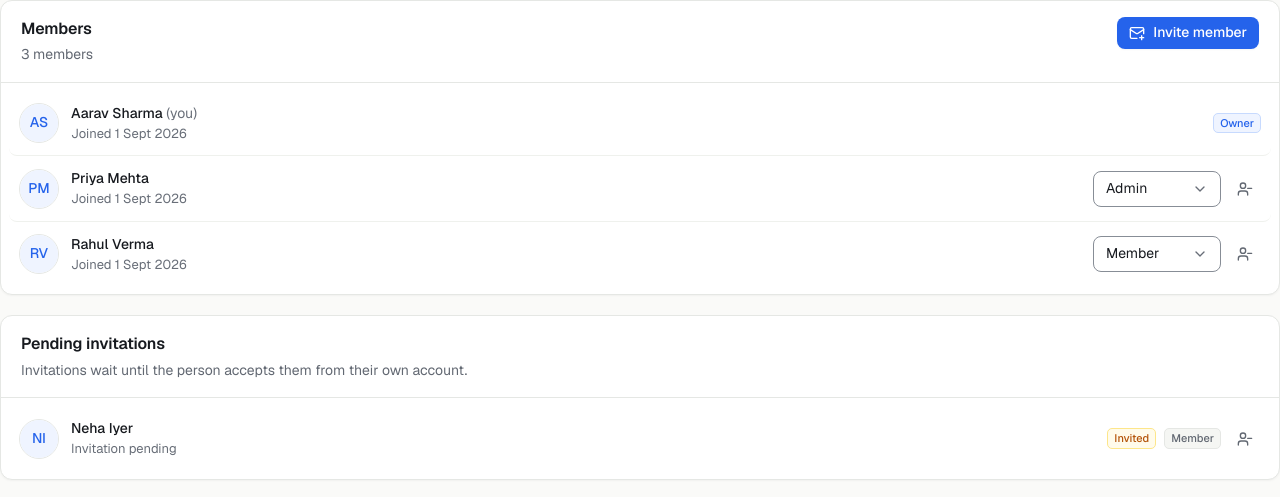
TeamManager › changes a role and refreshes from the server
The width and height of the screenshot is (1280, 497).
Click the dropdown named "Role for Rahul Verma" at (1157, 254), box x1=1093 y1=236 x2=1221 y2=272
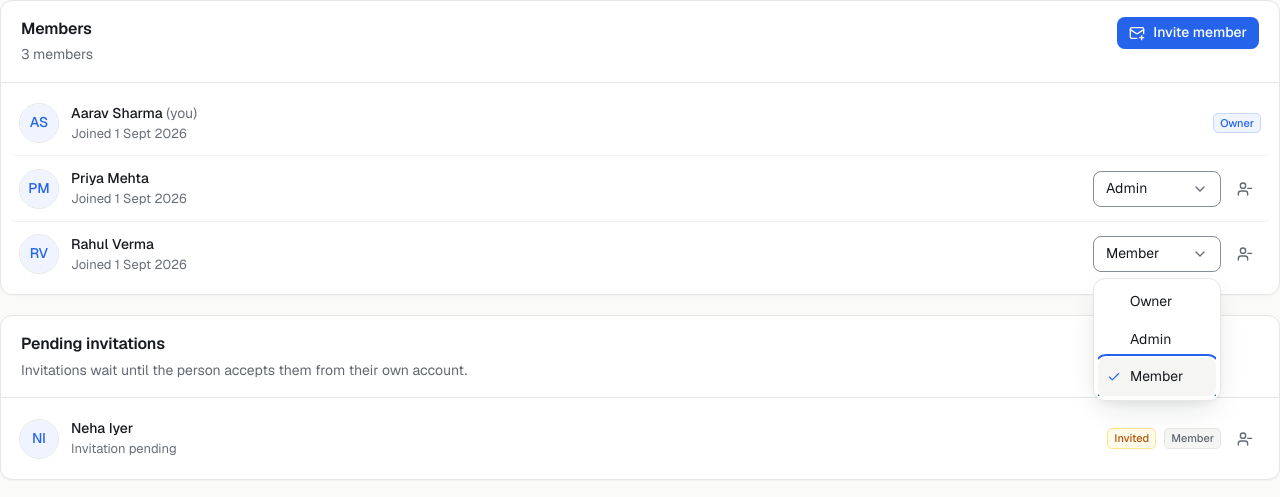
Click the option "Admin" at (1151, 339), box x1=1130 y1=330 x2=1171 y2=348
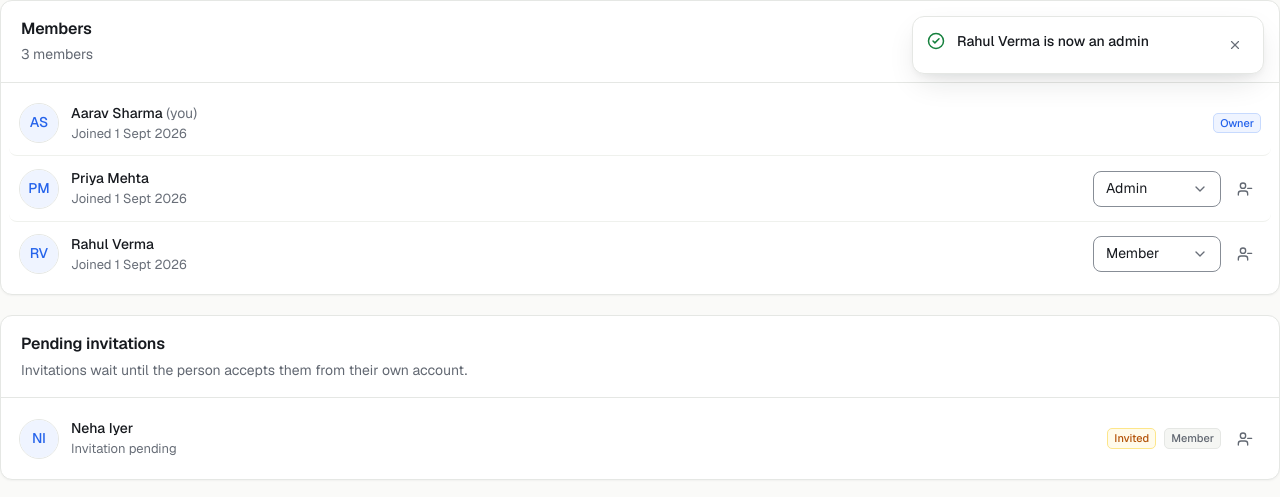
Result: the text "Rahul Verma is now an admin" is shown at x1=957 y1=32 x2=1149 y2=50
